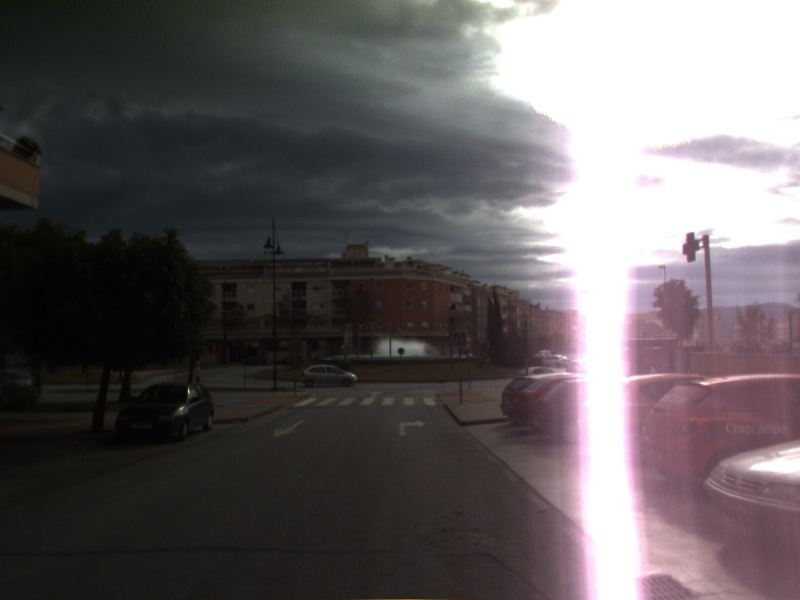RIGHT: (397, 417, 427, 438)
